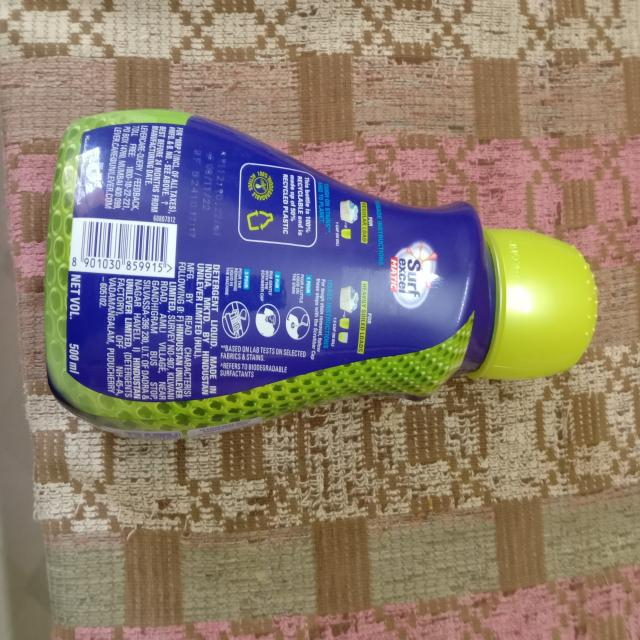detergent: (35, 98, 603, 439)
